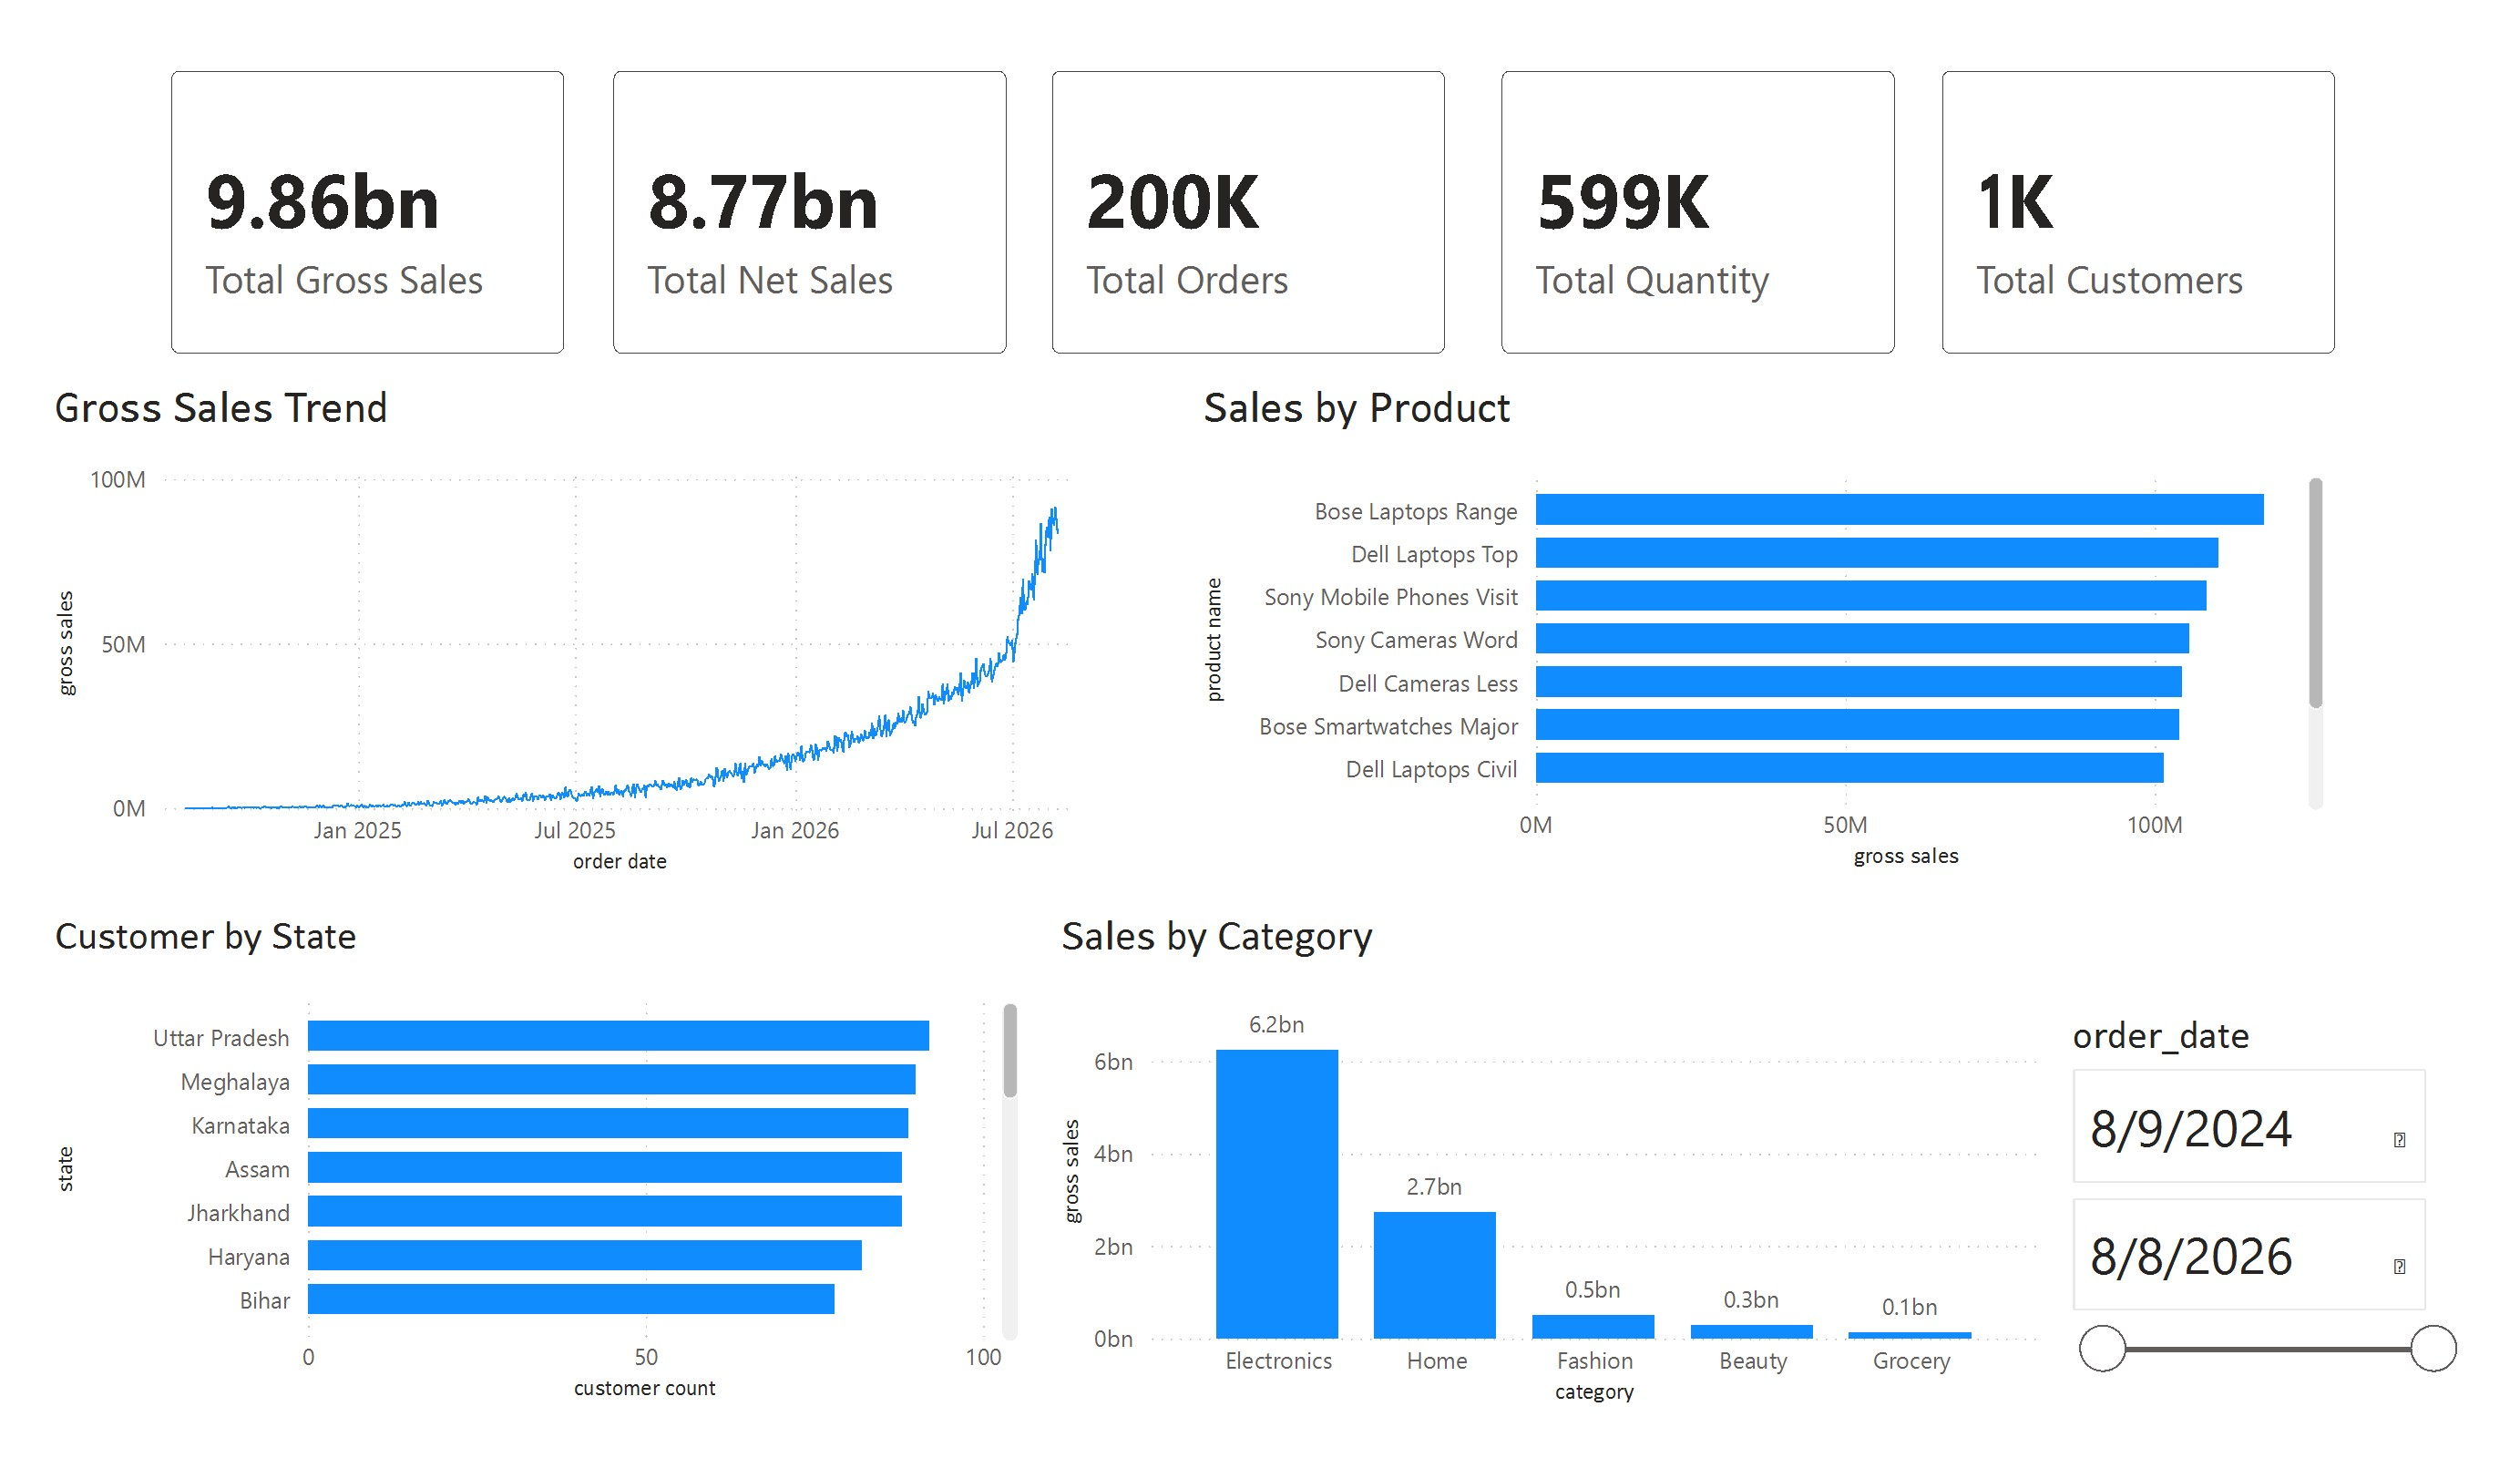

This screenshot's page, from the dashboard's own definition file:
{"tool":"powerbi","page":{"name":"Dashboard","canvas":[1280,720],"ordinal":0},"visuals":[{"type":"cardVisual","fields":{"Data":["Daily_Sales.Total Gross Sales"]},"box":[52.5,0,233.3,181.5],"z":0},{"type":"cardVisual","fields":{"Data":["Daily_Sales.Total Net Sales"]},"box":[285.8,0,233,181],"z":1000},{"type":"cardVisual","fields":{"Data":["Daily_Sales.Total Orders"]},"box":[517.3,0,233,181],"z":2000},{"type":"cardVisual","fields":{"Data":["Daily_Sales.Total Quantity"]},"box":[754.4,0,233,181],"z":3000},{"type":"cardVisual","fields":{"Data":["Daily_Sales.Total Customers"]},"box":[986.5,0,233,181],"z":4000},{"type":"slicer","title":"Date","fields":{"Values":["Daily_Sales.order_date"]},"box":[1055,505,224.3,214.7],"z":5000},{"type":"clusteredBarChart","title":"Sales by Product","fields":{"Category":["Products_Sales.product_name"],"Y":["Sum(Products_Sales.gross_sales)"]},"box":[605,178.3,600,261.7],"z":6000},{"type":"clusteredColumnChart","title":"Sales by Category","fields":{"Category":["Category_Sales.category"],"Y":["Sum(Category_Sales.gross_sales)"]},"box":[530,456.7,525,263.3],"z":7000},{"type":"lineChart","title":"Gross Sales Trend","fields":{"Y":["Sum(Daily_Sales.gross_sales)"],"Category":["Daily_Sales.order_date"]},"box":[0,178.3,560,261.7],"z":8000},{"type":"clusteredBarChart","title":"Customer by State","fields":{"Category":["Customer_state_summary.state"],"Y":["Sum(Customer_state_summary.customer_count)"]},"box":[0,458.3,516.7,261.7],"z":9000}]}

Visuals, with their boxes on the page's 1280x720 design canvas (x1, y1, x2, y2). These are canvas units, not pixel positions in the 2520x1458 screenshot, which may show the page scaled, cropped or inside an application window:
cardVisual - Daily_Sales.Total Gross Sales: 52:0:286:182
cardVisual - Daily_Sales.Total Net Sales: 286:0:519:181
cardVisual - Daily_Sales.Total Orders: 517:0:750:181
cardVisual - Daily_Sales.Total Quantity: 754:0:987:181
cardVisual - Daily_Sales.Total Customers: 986:0:1220:181
"Date" slicer: 1055:505:1279:720
"Sales by Product" clusteredBarChart: 605:178:1205:440
"Sales by Category" clusteredColumnChart: 530:457:1055:720
"Gross Sales Trend" lineChart: 0:178:560:440
"Customer by State" clusteredBarChart: 0:458:517:720
